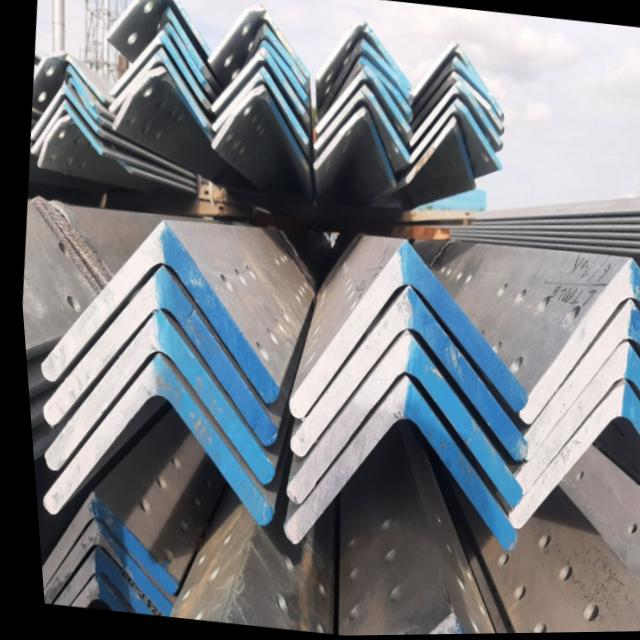metal-angles: (35, 216, 274, 404), (283, 238, 522, 419), (36, 266, 270, 446), (278, 331, 515, 508), (283, 285, 519, 462), (276, 375, 509, 552), (37, 308, 268, 486), (35, 351, 266, 527), (511, 259, 640, 425), (498, 381, 640, 531), (505, 342, 640, 497), (515, 300, 640, 464), (33, 489, 169, 595), (34, 518, 164, 617), (208, 85, 307, 173), (312, 38, 409, 125), (106, 46, 206, 129), (107, 29, 209, 110), (209, 66, 307, 146), (311, 85, 408, 165), (209, 46, 308, 124), (206, 4, 308, 78), (44, 546, 148, 616), (410, 39, 502, 117), (309, 105, 394, 189), (405, 97, 500, 172), (312, 65, 409, 137), (313, 19, 410, 90), (406, 81, 501, 149), (407, 72, 502, 131), (401, 117, 474, 192), (410, 56, 490, 117), (28, 98, 100, 156), (28, 82, 96, 139), (60, 572, 120, 612)
